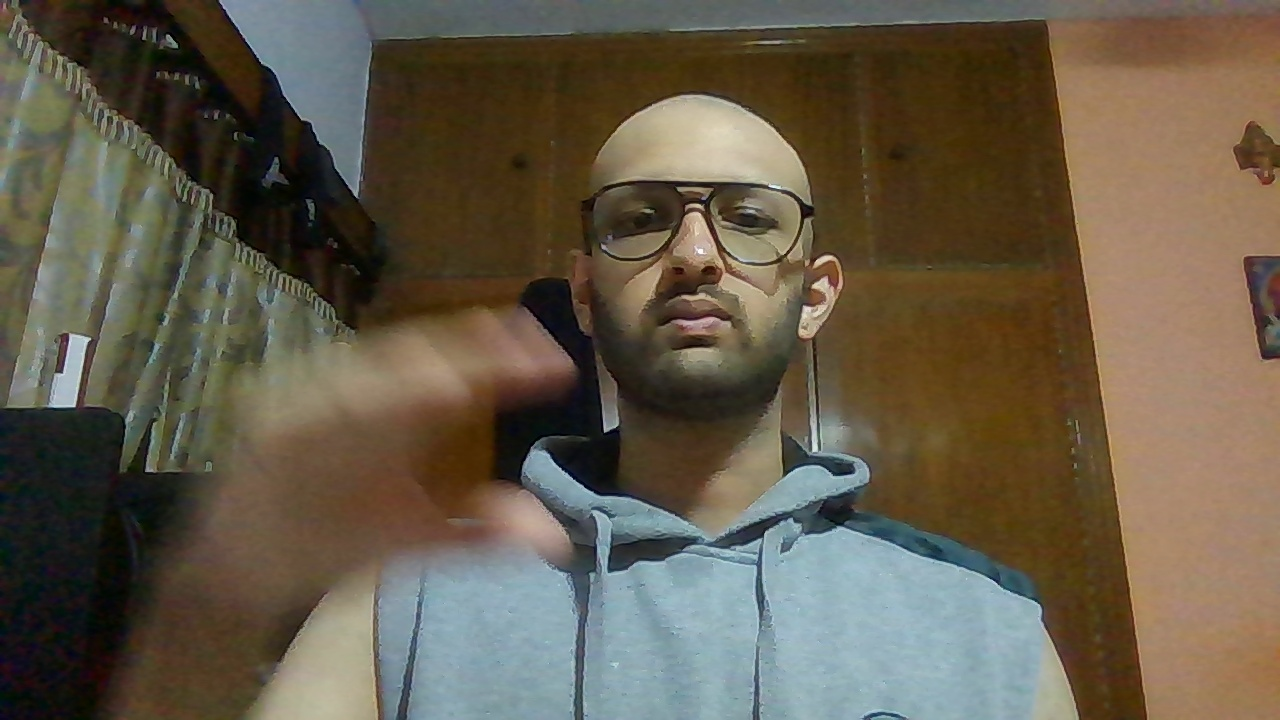No: (186, 300, 579, 603)
